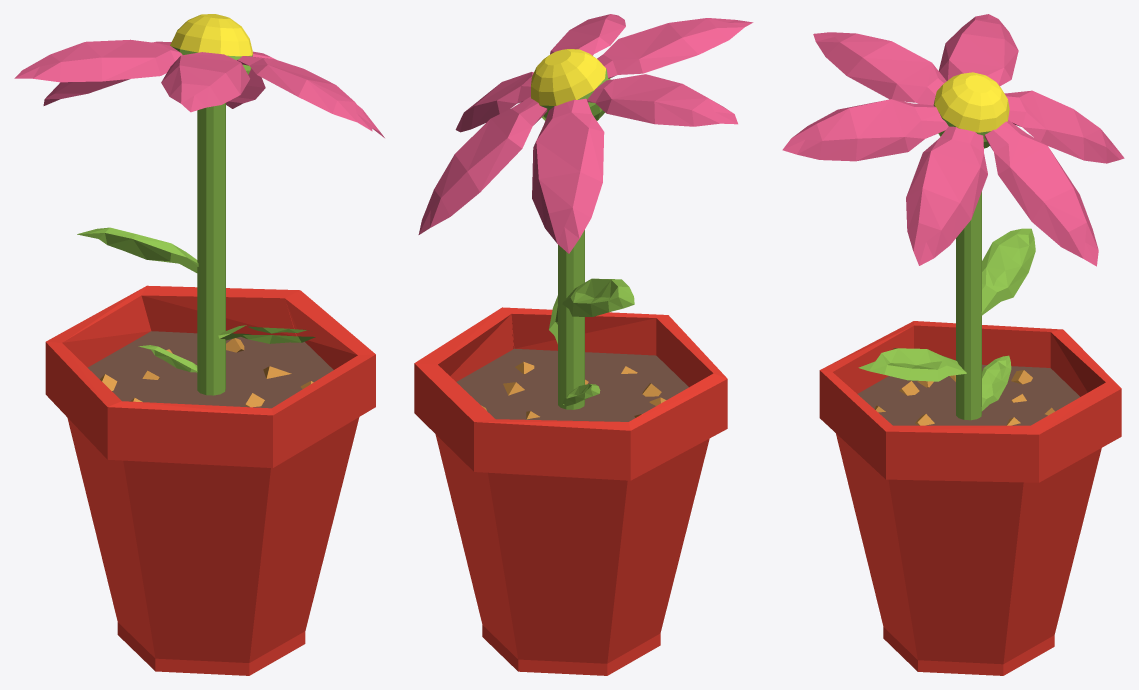
Rendered from potted-flower.glb.
The picture shows the model from 3 angles, left to right: view 1: azimuth 30°, elevation 25°; view 2: azimuth 150°, elevation 25°; view 3: azimuth 270°, elevation 25°; orthographic projection. The views are drawn at different scales.
Visible parts, largest first — view 1: Node; view 2: Node; view 3: Node.
Boxes of the visible parts, left/top/right/bottom form: Node: left=14, top=14, right=384, bottom=675; Node: left=414, top=14, right=753, bottom=675; Node: left=782, top=14, right=1124, bottom=675.
Size of the model in its own units: 0.2651 by 0.4733 by 0.2585.
